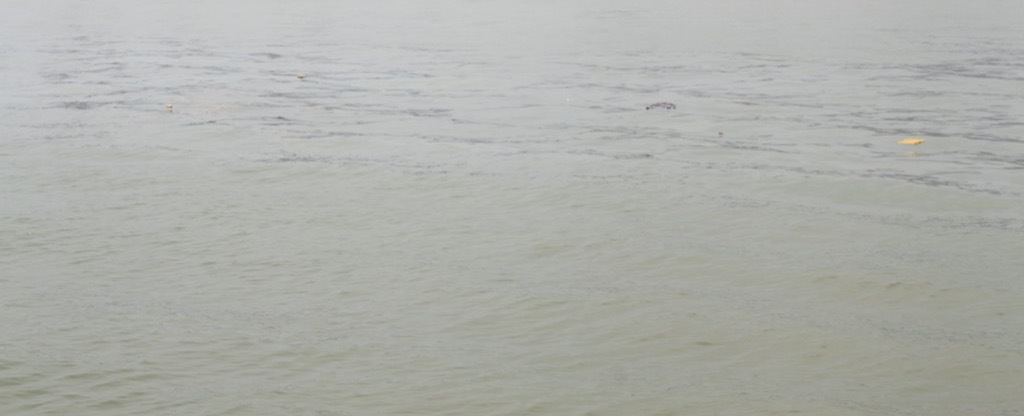organic: (637, 93, 681, 119)
plastic: (154, 95, 184, 118), (288, 67, 317, 90), (558, 90, 584, 110), (896, 135, 927, 149)
